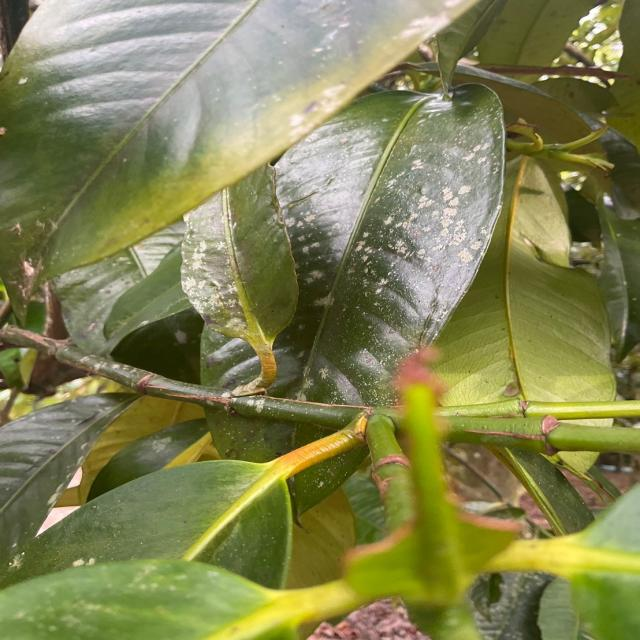Leaf Spot: (318, 92, 526, 328)
